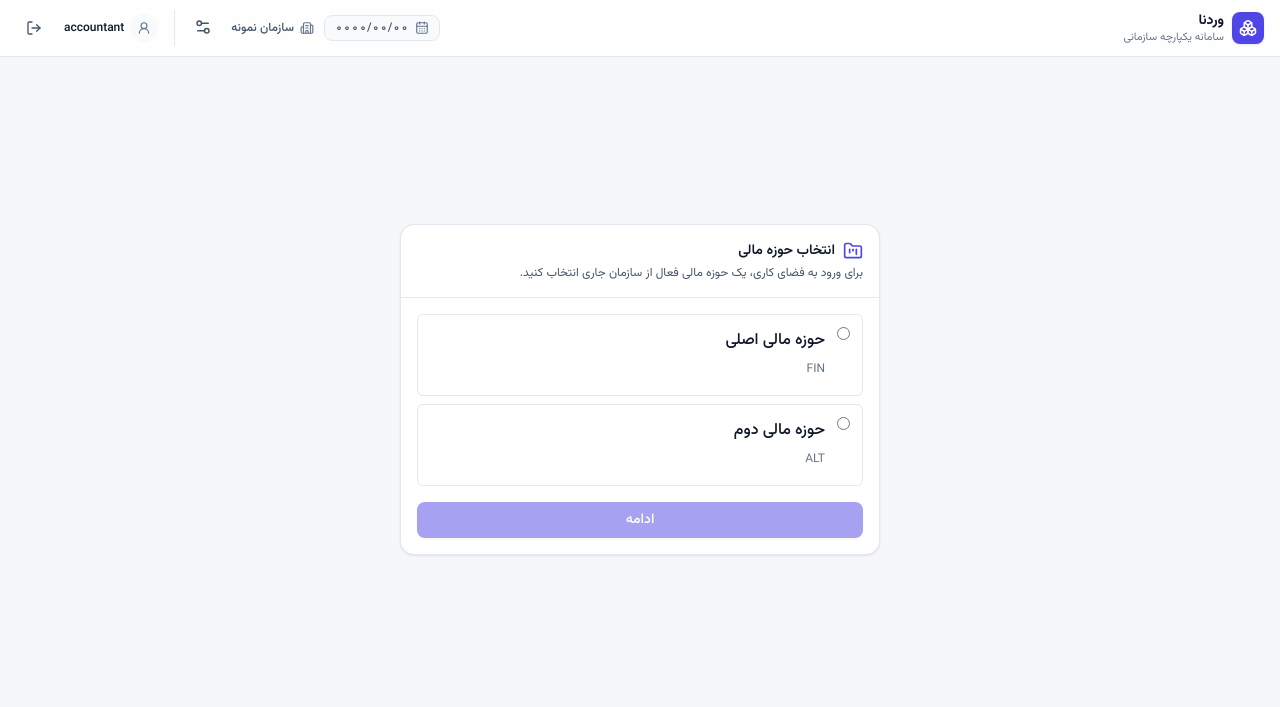
financial workspace context gate › requires explicit area and fiscal-year selection when multiple choices exist
The width and height of the screenshot is (1280, 707).
Click the radio button labelled "حوزه مالی اصلی FIN" at (844, 333), box [837,326,850,340]
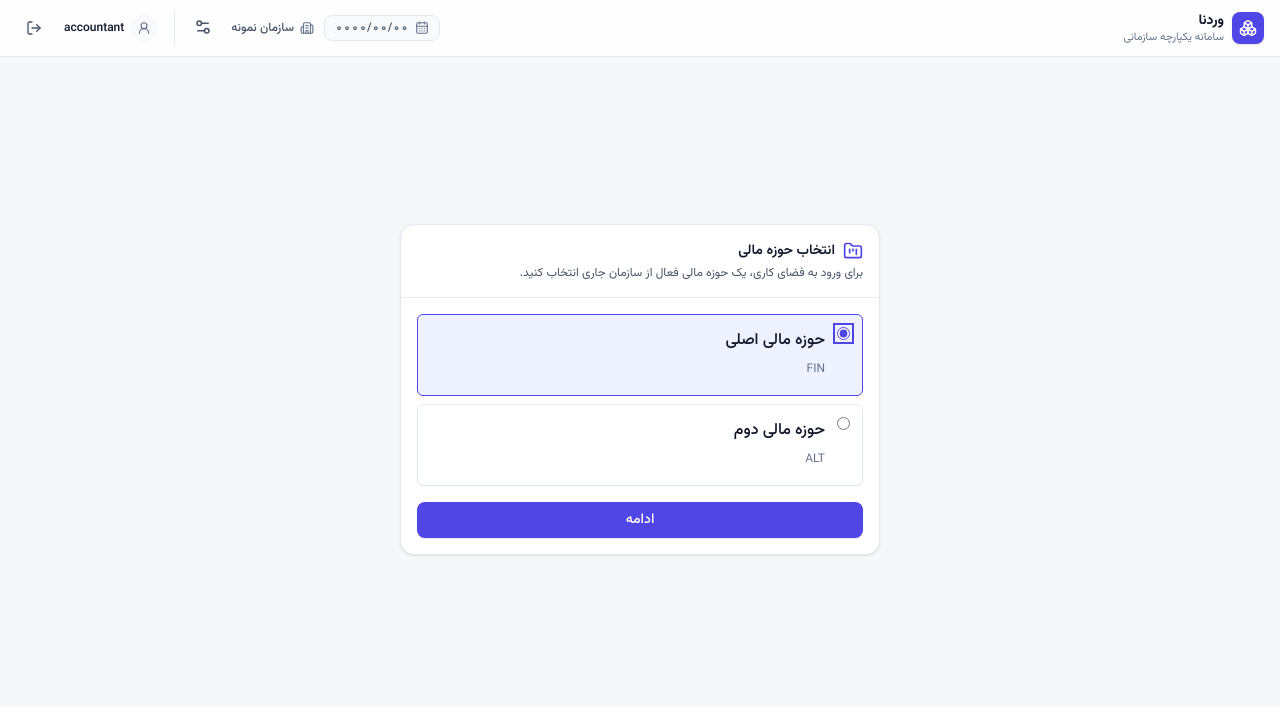
Click the button "ادامه" at (640, 520), box [417,502,863,538]
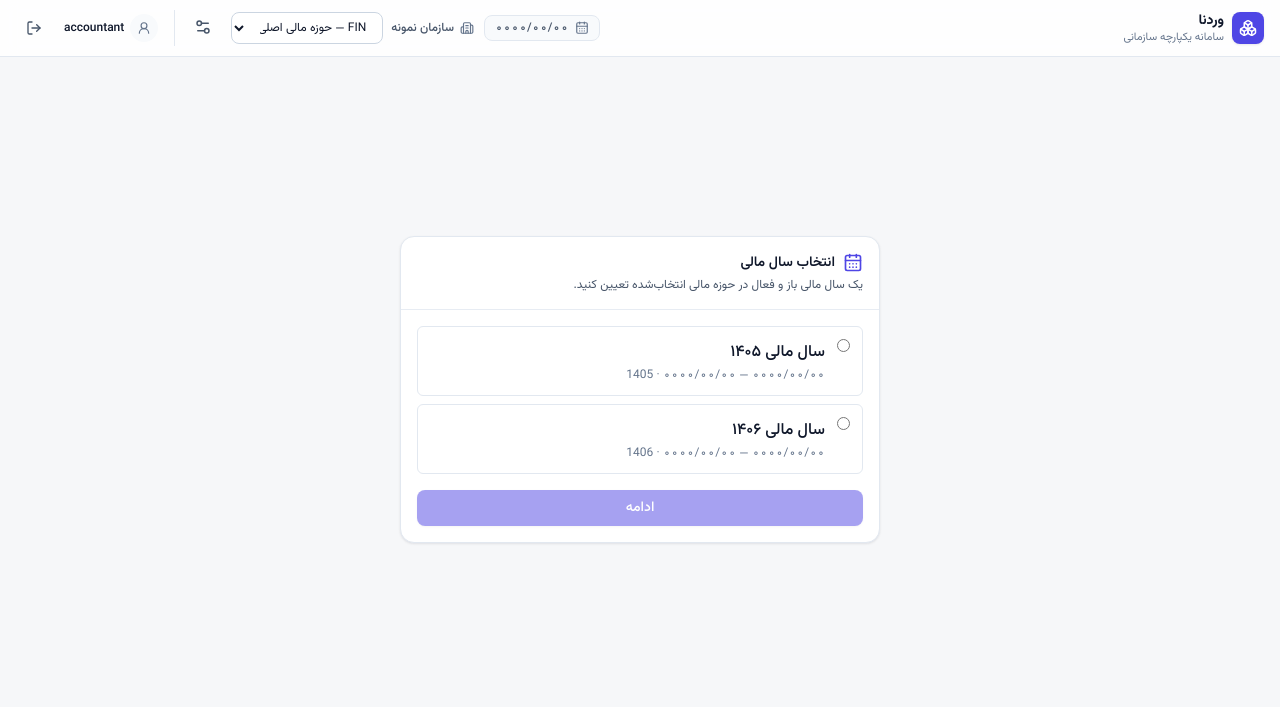
Now the heading "انتخاب سال مالی" is shown, box [740,252,863,274]
Click the radio button labelled "سال مالی ۱۴۰۵ 1405 · ۰۰۰۰/۰۰/۰۰ — ۰۰۰۰/۰۰/۰۰" at (844, 345), box [837,338,850,352]
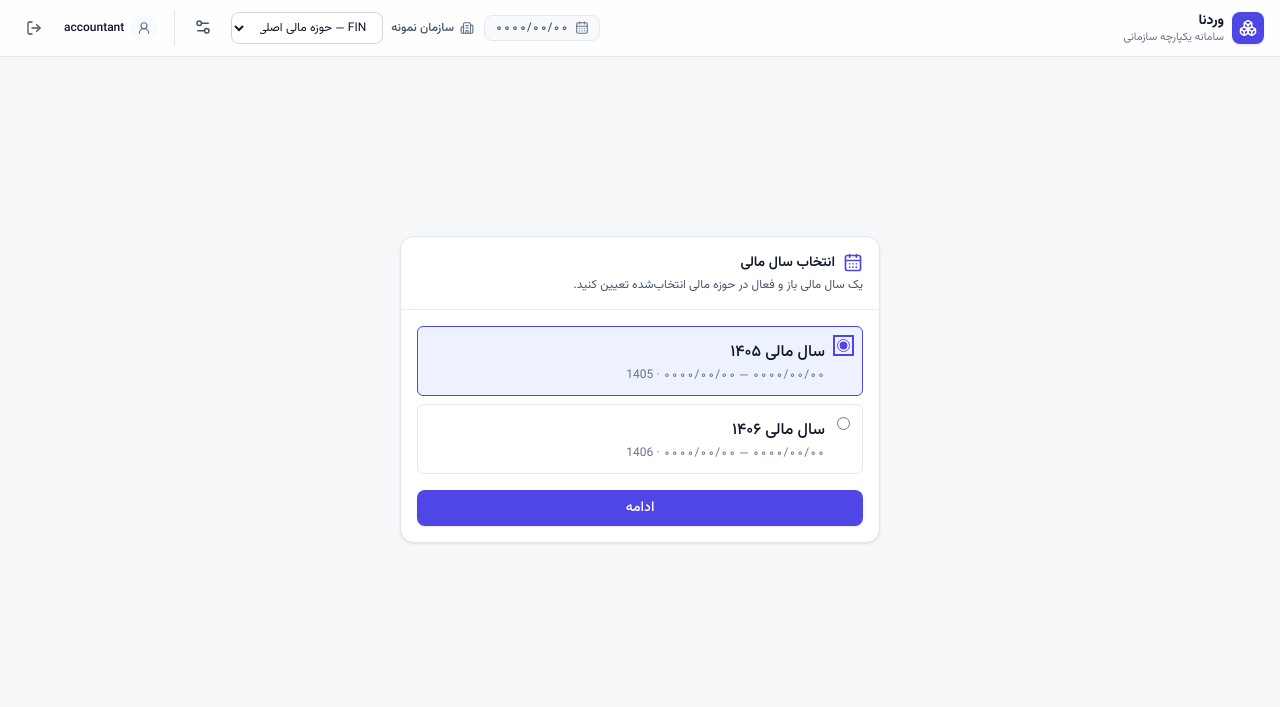
Click the button "ادامه" at (640, 508), box [417,490,863,526]
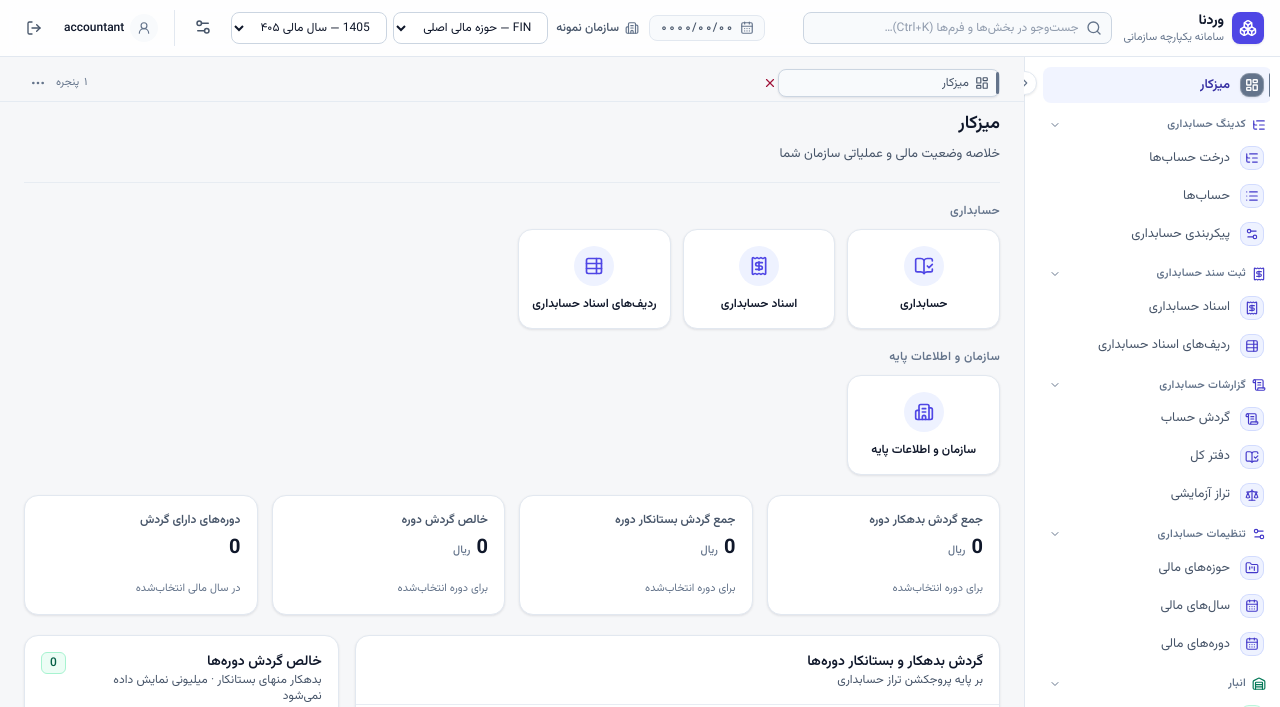
Now the heading "میزکار" is shown, box [958,110,1000,138]
